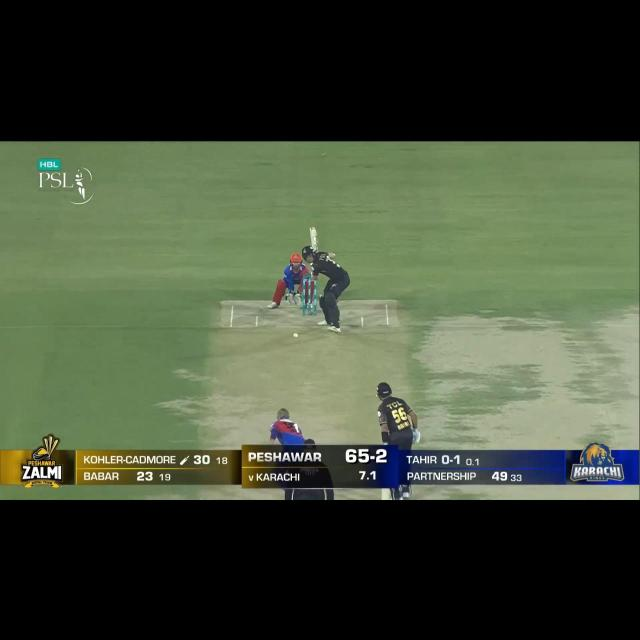bat: (309, 227, 320, 252), (381, 487, 393, 500)
toe: (380, 488, 393, 502), (309, 226, 317, 234)
